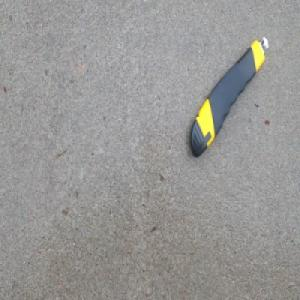Cutter: (187, 38, 267, 161)
